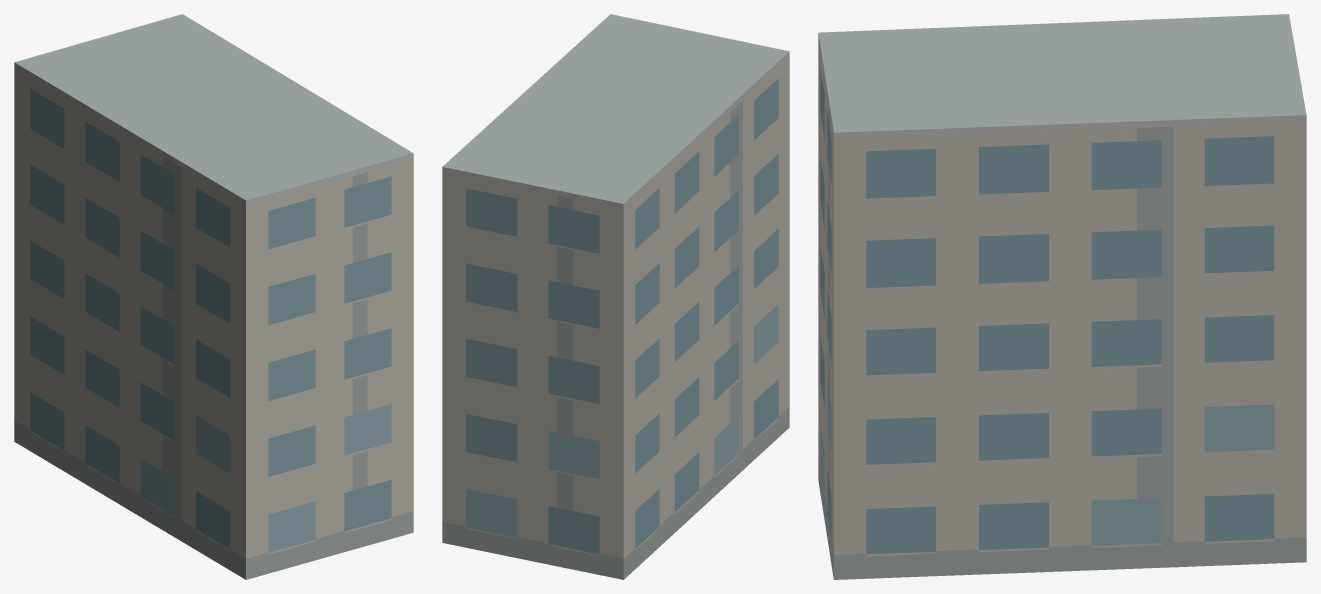
The model's file is survey-upis-32886726.glb.
The picture shows the model from 3 angles, left to right: view 1: azimuth 30°, elevation 25°; view 2: azimuth 150°, elevation 25°; view 3: azimuth 270°, elevation 25°; orthographic projection. The views are drawn at different scales.
Visible parts, largest first — view 1: survey-upis-32886726.tmp; view 2: survey-upis-32886726.tmp; view 3: survey-upis-32886726.tmp.
Part boxes in pixels (<box>): survey-upis-32886726.tmp: <box>14,14,413,579</box>; survey-upis-32886726.tmp: <box>442,14,789,579</box>; survey-upis-32886726.tmp: <box>818,14,1306,579</box>.
Bounding box in the file's own units: 9.17 × 16.1 × 15.94.
